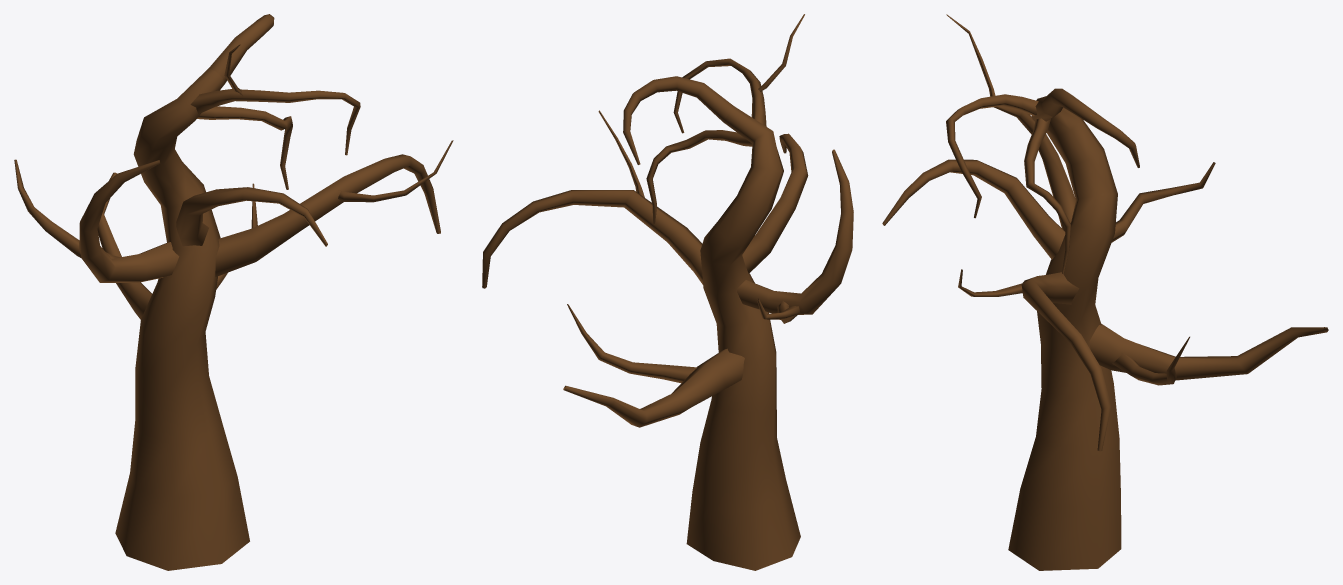
Rendered from Tree_2.fbx.
3 renders of one model, left to right at view 1: azimuth 30°, elevation 25°; view 2: azimuth 150°, elevation 25°; view 3: azimuth 270°, elevation 25°, orthographic. The views are drawn at different scales.
Parts seen in each view (by area): view 1: Tree_2; view 2: Tree_2; view 3: Tree_2.
Part boxes in pixels (bbox=[...]): Tree_2: bbox=[14, 14, 453, 570]; Tree_2: bbox=[482, 14, 853, 570]; Tree_2: bbox=[882, 14, 1328, 570].
Bounding box in the file's own units: 123 × 167 × 127.
